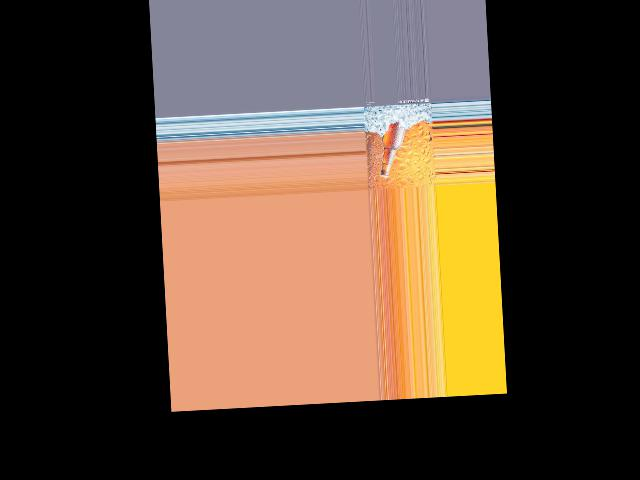beer: (374, 121, 407, 178)
